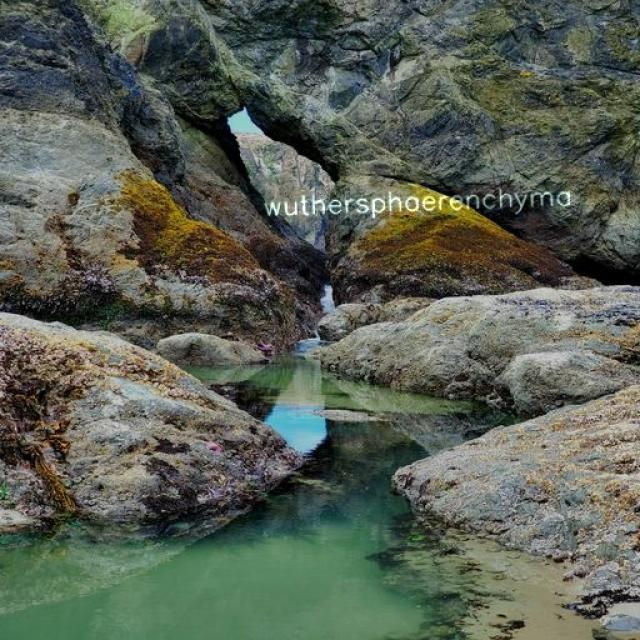watermark: (255, 183, 572, 220)
